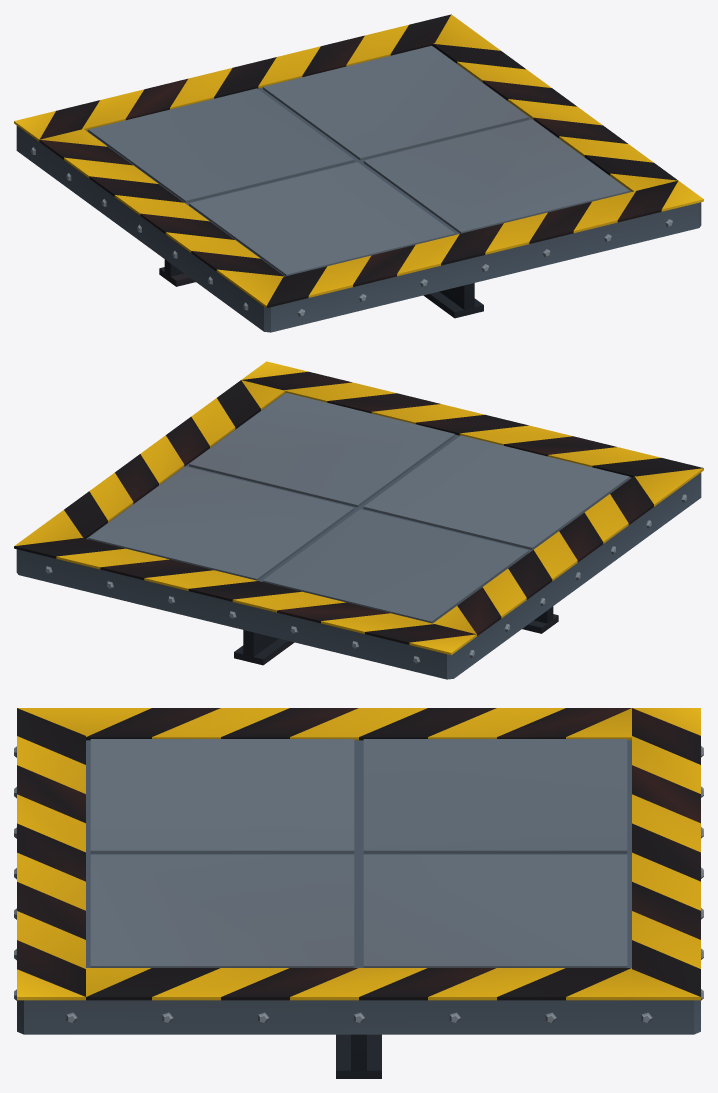
The model's file is platform_forge.glb.
3 views of the same model, one above another, from view 1: azimuth 30°, elevation 25°; view 2: azimuth 150°, elevation 25°; view 3: azimuth 270°, elevation 25° (orthographic). The views are drawn at different scales.
Parts seen in each view (by area): view 1: platform_forge; view 2: platform_forge; view 3: platform_forge.
Part boxes in pixels (x1,y1,x2,y2): platform_forge: (14,14,703,332); platform_forge: (14,361,703,679); platform_forge: (14,708,703,1078).
Size of the model in its own units: 3 by 0.6 by 3.
